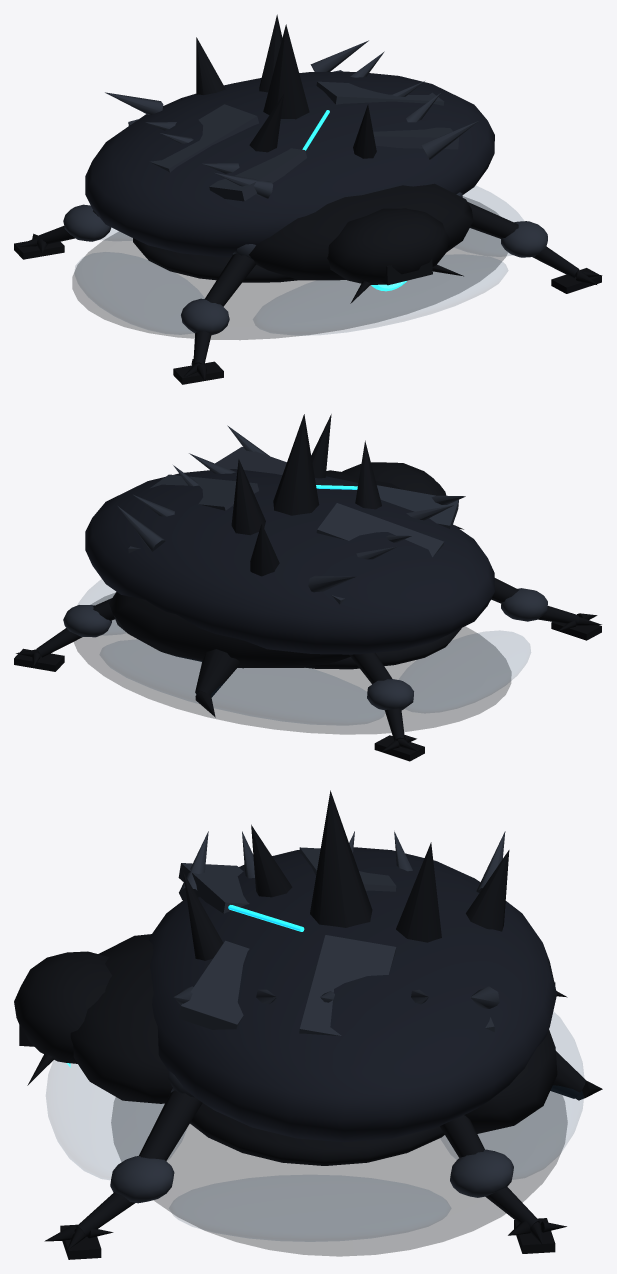
The model's file is beast-silhouette.glb.
3 views of the same model, one above another, from view 1: azimuth 30°, elevation 25°; view 2: azimuth 150°, elevation 25°; view 3: azimuth 270°, elevation 25° (orthographic). The views are drawn at different scales.
Parts seen in each view (by area): view 1: MainCharredCarapaceDome, LowUnderbellyBlackFogPad, FrontBlueMistBank, ForwardThoraxDarkMass, HeadDarkMask, LeftLegFogBank, BentKneePlate (×3), LowBellyVoidSilhouette, UpperLongLimbSegment (×2), DominantMiddleBackSpine, LeftMidShellPlate, LeftFrontShellPlate (+14 smaller); view 2: MainCharredCarapaceDome, LowUnderbellyBlackFogPad, RearBlueMistBank, LeftLegFogBank, RearAbdomenShadowMass, BentKneePlate (×3), DominantMiddleBackSpine, LeftMidShellPlate, GroundedClawPalm (×3), HeadDarkMask, TallRearCenterSpine, LeftFrontShellPlate (+12 smaller); view 3: MainCharredCarapaceDome, LowUnderbellyBlackFogPad, RightLegFogBank, ForwardThoraxDarkMass, FrontBlueMistBank, HeadDarkMask, LowBellyVoidSilhouette, RearBlueMistBank, BentKneePlate (×2), DominantMiddleBackSpine, RightMidShellPlate, RearAbdomenShadowMass (+11 smaller).
Boxes of the visible parts, left/top/right/bottom form: MainCharredCarapaceDome: left=85, top=71, right=494, bottom=257; LowUnderbellyBlackFogPad: left=72, top=196, right=507, bottom=339; FrontBlueMistBank: left=253, top=255, right=507, bottom=334; ForwardThoraxDarkMass: left=249, top=183, right=473, bottom=280; HeadDarkMask: left=327, top=208, right=449, bottom=284; LeftLegFogBank: left=75, top=252, right=204, bottom=334; BentKneePlate (×3): left=63, top=204, right=547, bottom=335; LowBellyVoidSilhouette: left=133, top=238, right=299, bottom=282; UpperLongLimbSegment (×2): left=205, top=202, right=518, bottom=306; DominantMiddleBackSpine: left=263, top=24, right=309, bottom=119; LeftMidShellPlate: left=150, top=104, right=258, bottom=172; LeftFrontShellPlate: left=209, top=148, right=306, bottom=201; MainCharredCarapaceDome: left=85, top=469, right=494, bottom=654; LowUnderbellyBlackFogPad: left=74, top=593, right=511, bottom=734; RearBlueMistBank: left=100, top=640, right=384, bottom=724; LeftLegFogBank: left=399, top=631, right=530, bottom=712; RearAbdomenShadowMass: left=109, top=592, right=350, bottom=668; BentKneePlate (×3): left=63, top=588, right=547, bottom=710; DominantMiddleBackSpine: left=273, top=414, right=319, bottom=515; LeftMidShellPlate: left=316, top=503, right=443, bottom=557; GroundedClawPalm (×3): left=14, top=622, right=601, bottom=761; HeadDarkMask: left=342, top=462, right=446, bottom=495; TallRearCenterSpine: left=231, top=459, right=265, bottom=535; LeftFrontShellPlate: left=377, top=485, right=458, bottom=528; MainCharredCarapaceDome: left=149, top=847, right=556, bottom=1142; LowUnderbellyBlackFogPad: left=111, top=1091, right=567, bottom=1256; RightLegFogBank: left=169, top=1175, right=450, bottom=1241; ForwardThoraxDarkMass: left=70, top=934, right=172, bottom=1103; FrontBlueMistBank: left=46, top=1060, right=185, bottom=1179; HeadDarkMask: left=14, top=951, right=111, bottom=1063; LowBellyVoidSilhouette: left=190, top=1103, right=444, bottom=1165; RearBlueMistBank: left=440, top=1012, right=583, bottom=1179; BentKneePlate (×2): left=110, top=1149, right=513, bottom=1203; DominantMiddleBackSpine: left=310, top=790, right=372, bottom=927; RightMidShellPlate: left=299, top=935, right=396, bottom=1035; RearAbdomenShadowMass: left=464, top=1030, right=557, bottom=1133.
Size of the model in its own units: 6.72 by 3.69 by 6.03.
